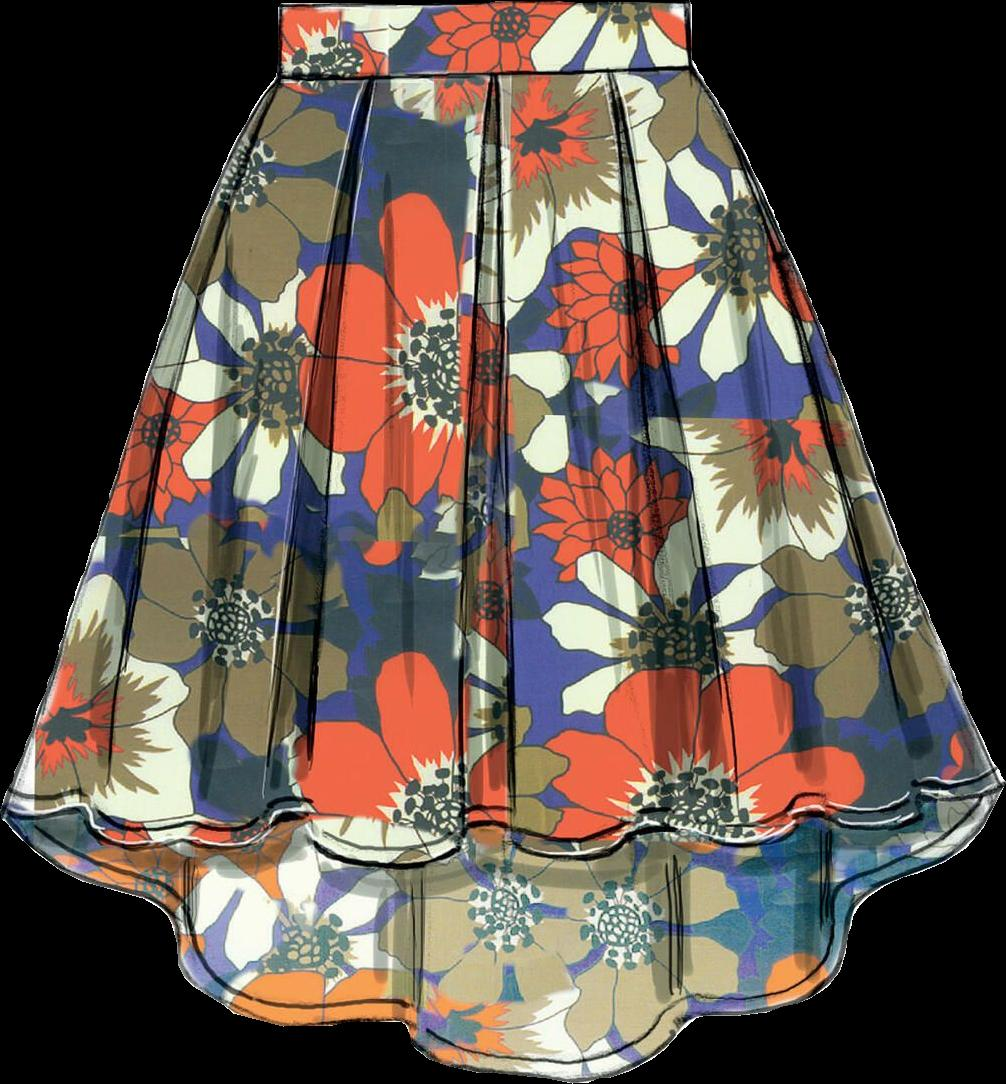Hemline: (0, 781, 1005, 869)
Waistline: (274, 64, 698, 88), (272, 0, 689, 17)
